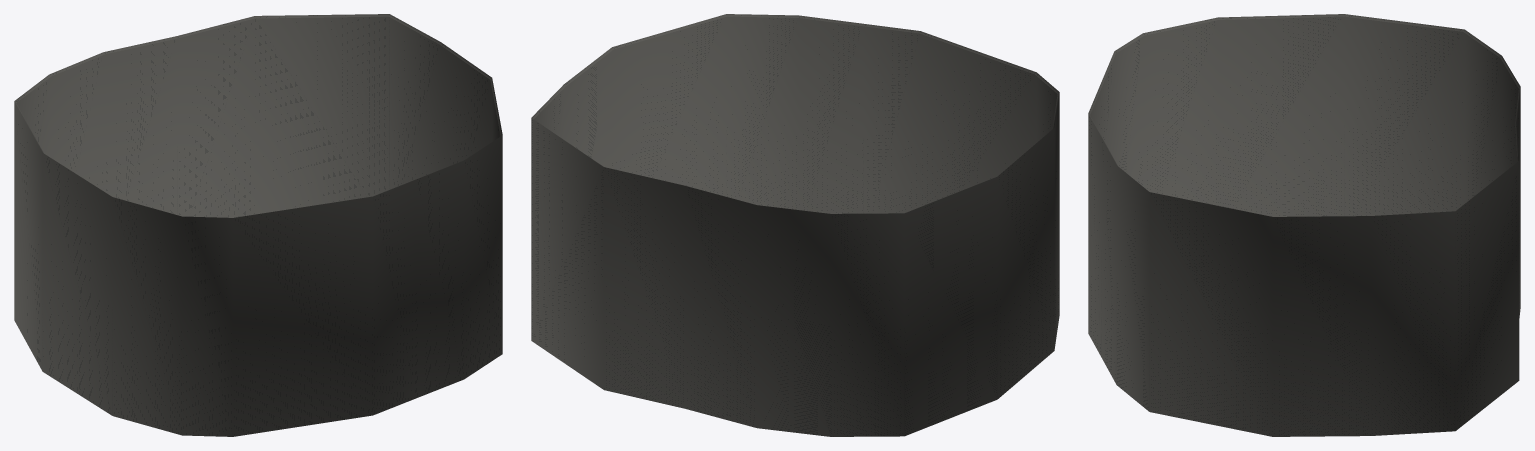
Rendered from LVL1.obj.
The picture shows the model from 3 angles, left to right: view 1: azimuth 30°, elevation 25°; view 2: azimuth 150°, elevation 25°; view 3: azimuth 270°, elevation 25°; orthographic projection.
Parts seen in each view (by area): view 1: Model_Plane; view 2: Model_Plane; view 3: Model_Plane.
Boxes of the visible parts, <box> form: Model_Plane: <box>14,14,502,436</box>; Model_Plane: <box>531,14,1059,436</box>; Model_Plane: <box>1088,14,1520,436</box>.
Bounding box in the file's own units: 3.96 × 2 × 3.56.
